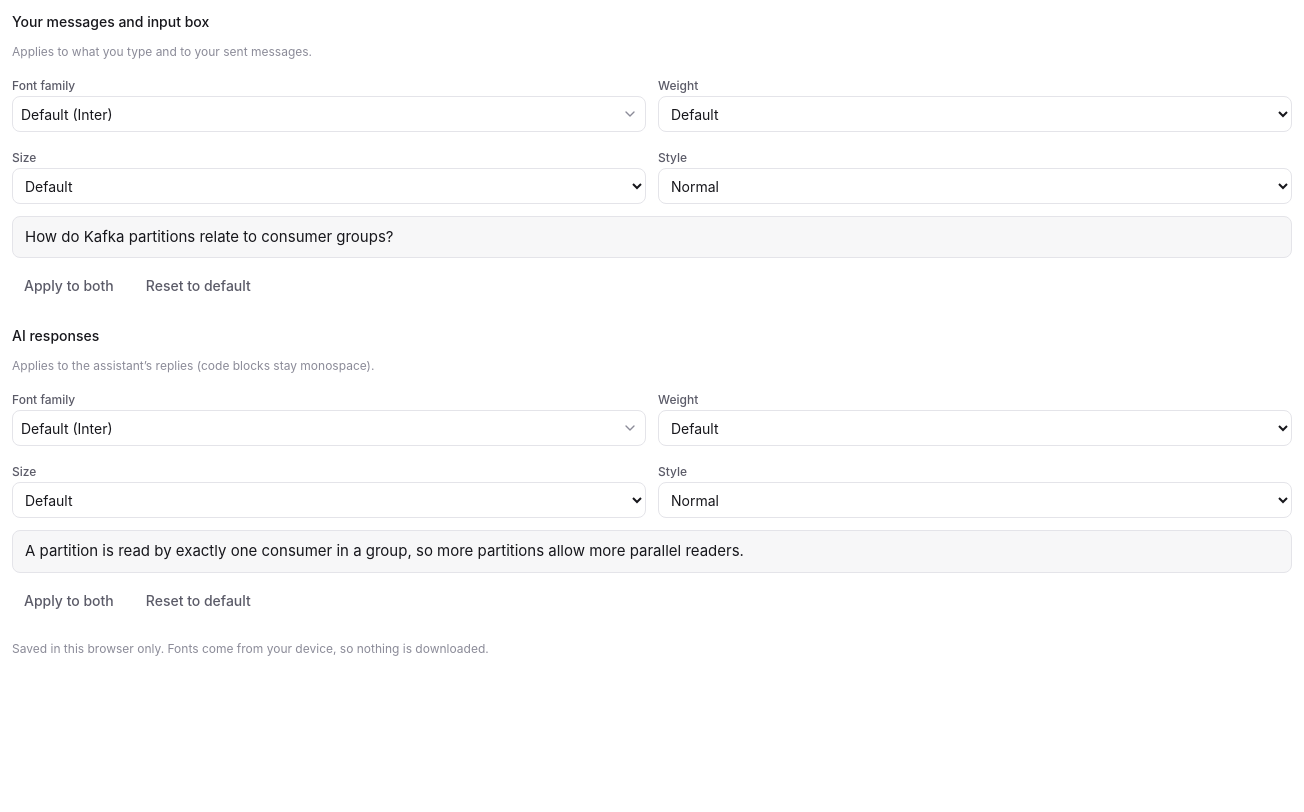
Test case: searchable font picker › filters as you type and picks with the keyboard
Replace the text in the dropdown named "Font family" below "Your messages and input box" with "couri" at (329, 114), box [12, 96, 646, 132]
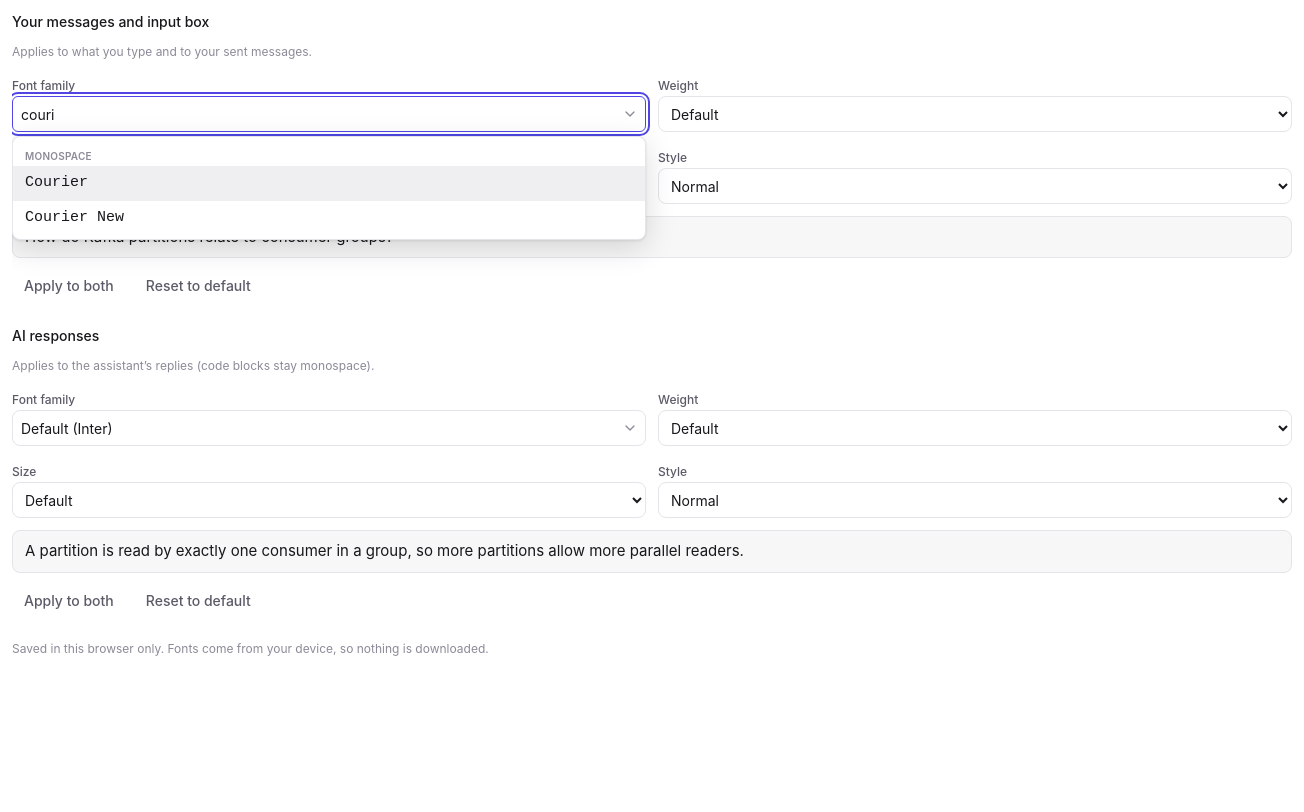
Check: the options read "Courier", "Courier New", in this order, box [13, 166, 645, 200]; [25, 208, 124, 226]
Press ArrowDown in the dropdown named "Font family" below "Your messages and input box", box [12, 96, 646, 132]
Press Enter in the dropdown named "Font family" below "Your messages and input box", box [12, 96, 646, 132]
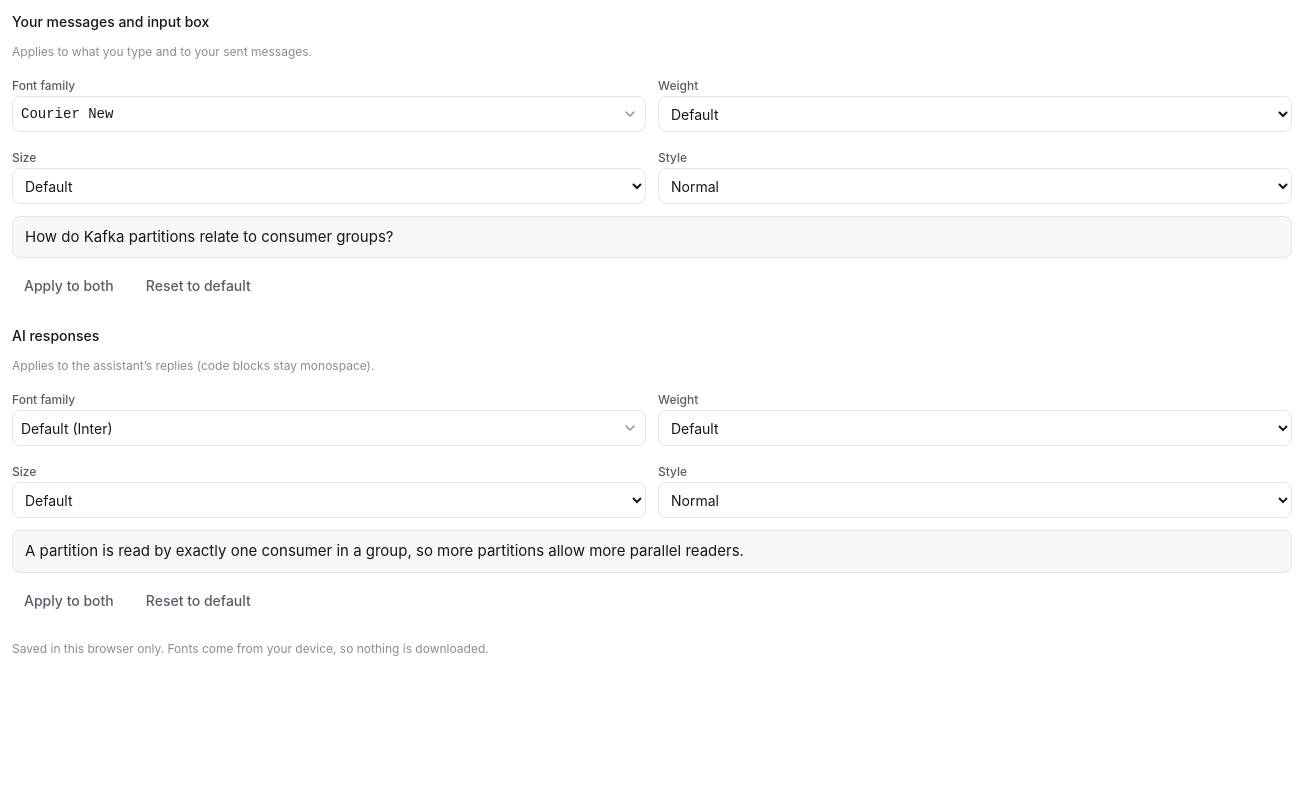
Check: the list is gone
